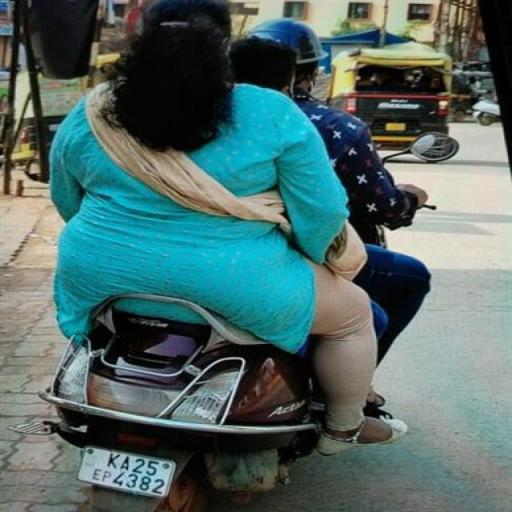tripple riding: (39, 0, 442, 329)
